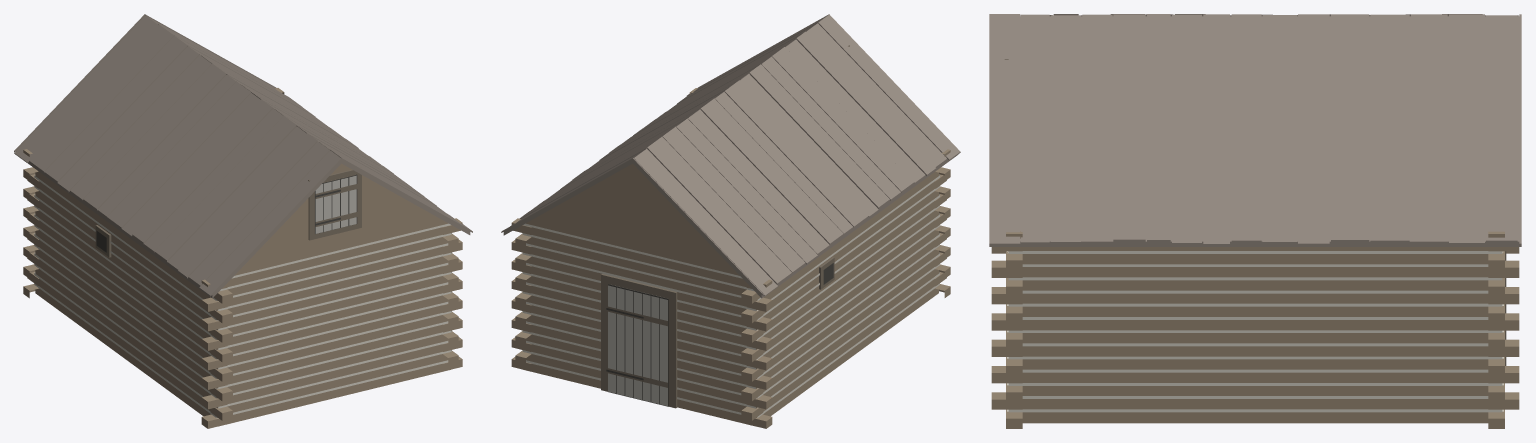
The model's file is recon_1835_blk_washington_clinton_a1_06__inferred_1835.glb.
3 renders of one model, left to right at view 1: azimuth 30°, elevation 25°; view 2: azimuth 150°, elevation 25°; view 3: azimuth 270°, elevation 25°, orthographic. The views are drawn at different scales.
Visible parts, largest first — view 1: recon_1835_blk_washington_clinton_a1_06__inferred_1835; view 2: recon_1835_blk_washington_clinton_a1_06__inferred_1835; view 3: recon_1835_blk_washington_clinton_a1_06__inferred_1835.
Part boxes in pixels (<box>): recon_1835_blk_washington_clinton_a1_06__inferred_1835: <box>14,14,472,428</box>; recon_1835_blk_washington_clinton_a1_06__inferred_1835: <box>501,14,960,428</box>; recon_1835_blk_washington_clinton_a1_06__inferred_1835: <box>989,14,1521,428</box>.
Size of the model in its own units: 5.86 by 5.23 by 7.59.
